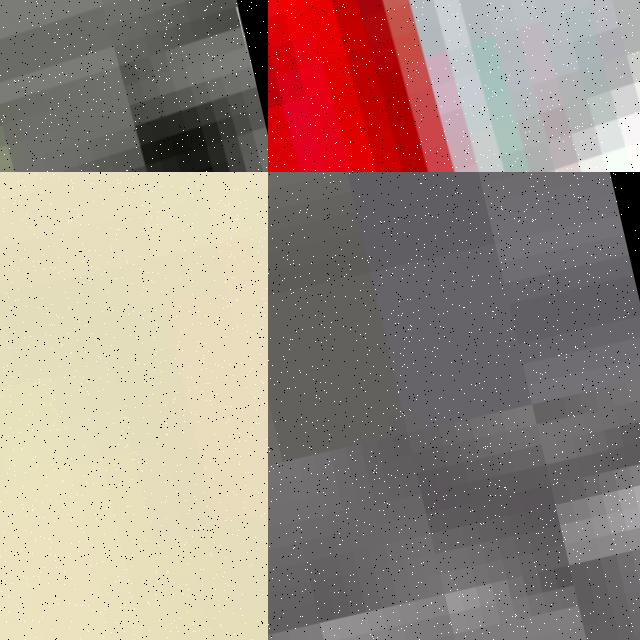drone: (268, 0, 640, 172), (0, 0, 268, 172)
